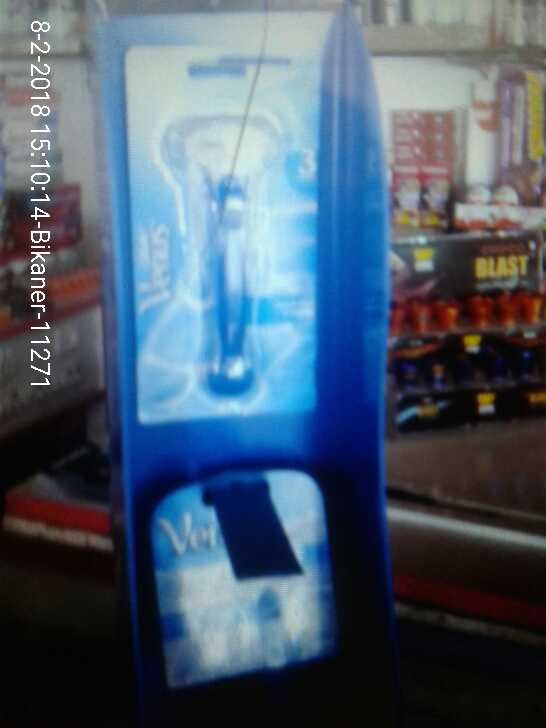venus: (134, 43, 320, 418), (154, 474, 348, 688)
